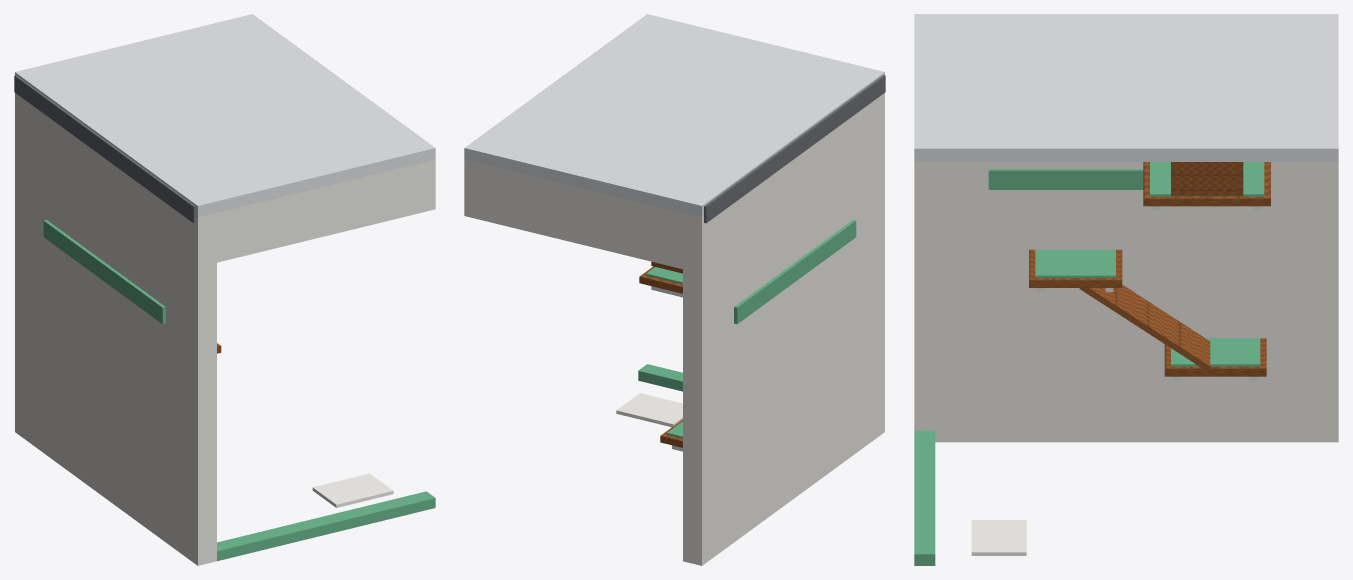
File: boarding-kennels-and-cattery-boarding-kennels-and-catt-a354a346__35545.glb
3 renders of one model, left to right at view 1: azimuth 30°, elevation 25°; view 2: azimuth 150°, elevation 25°; view 3: azimuth 270°, elevation 25°, orthographic. The views are drawn at different scales.
Parts seen in each view (by area): view 1: boarding-kennels-and-cattery-cat-pen-module; view 2: boarding-kennels-and-cattery-cat-pen-module; view 3: boarding-kennels-and-cattery-cat-pen-module.
Part boxes in pixels (x1,y1,x2,y2): boarding-kennels-and-cattery-cat-pen-module: (14,14,435,565); boarding-kennels-and-cattery-cat-pen-module: (464,14,885,565); boarding-kennels-and-cattery-cat-pen-module: (914,14,1338,565).
Bounding box in the file's own units: 1.52 × 2.17 × 2.
Materials: 6 (1 with a texture image).
